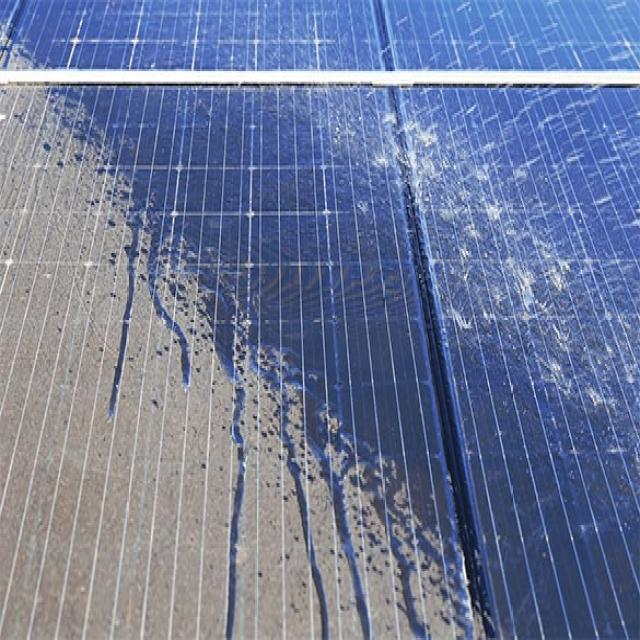dust-solar-panel: (0, 23, 529, 640)
